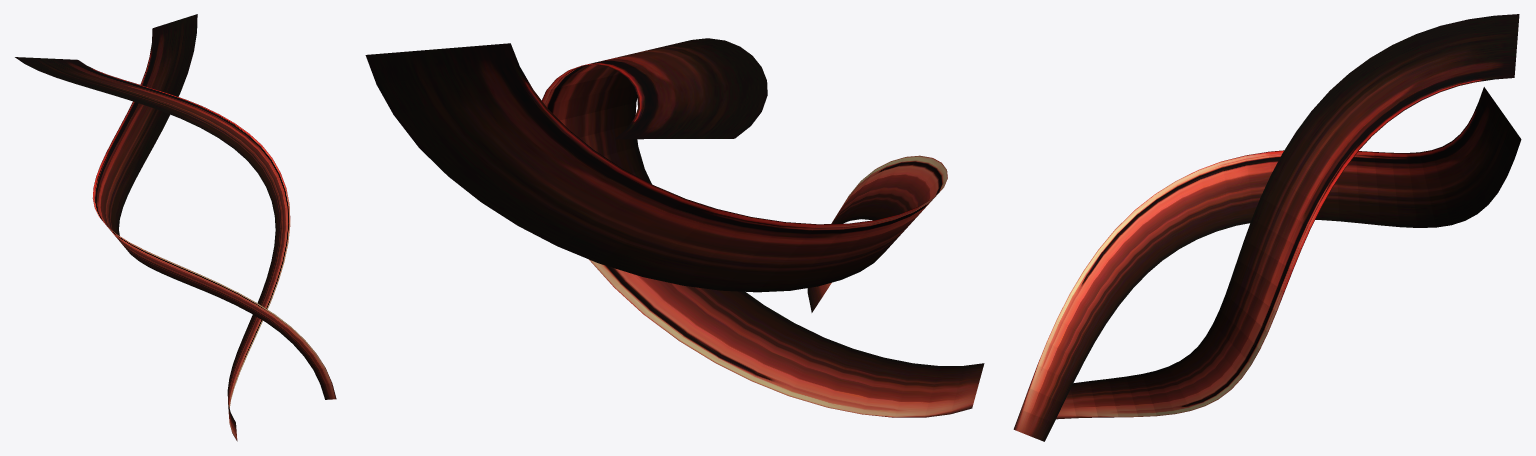
File: effect_mnck_atk04_atk2_donghua.fbx
3 views of the same model, side by side, from view 1: azimuth 30°, elevation 25°; view 2: azimuth 150°, elevation 25°; view 3: azimuth 270°, elevation 25° (orthographic). The views are drawn at different scales.
Visible parts, largest first — view 1: trails_mo_003, trails_mo_003 (1); view 2: trails_mo_003, trails_mo_003 (1); view 3: trails_mo_003 (1), trails_mo_003.
Part boxes in pixels (x1,y1,x2,y2): trails_mo_003: [92, 14, 336, 399]; trails_mo_003 (1): [15, 57, 290, 441]; trails_mo_003: [365, 43, 947, 312]; trails_mo_003 (1): [542, 38, 984, 417]; trails_mo_003 (1): [1056, 14, 1519, 419]; trails_mo_003: [1013, 87, 1521, 441].
Size of the model in its own units: 2.95 by 4.25 by 5.13.
